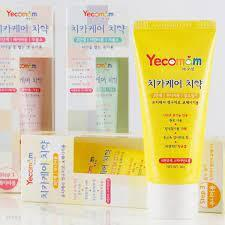toothpaste: (126, 16, 210, 225)
